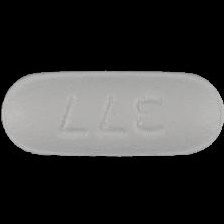57664-377: (0, 0, 224, 224)
